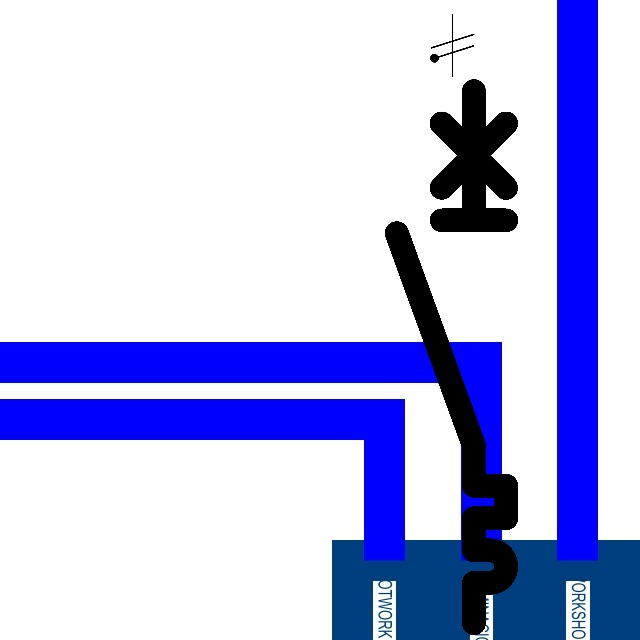interruptor_termomagnetico: (383, 77, 520, 637)
